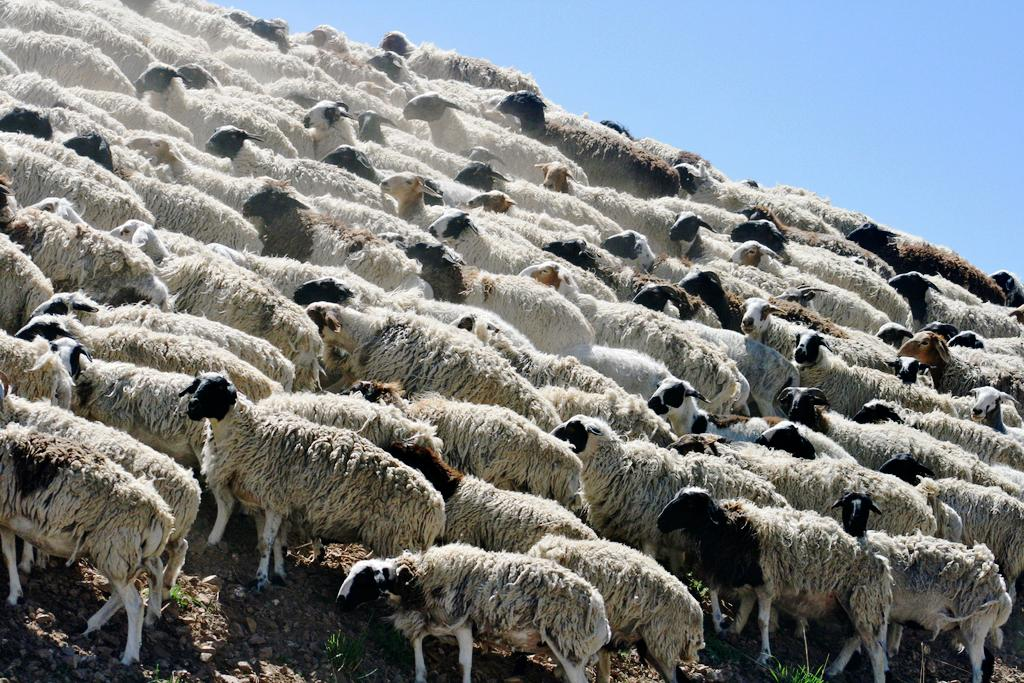Sheep: (184, 362, 468, 593), (0, 379, 182, 633), (658, 476, 887, 677), (0, 416, 172, 668), (332, 534, 603, 683), (836, 484, 1010, 680), (112, 221, 338, 371), (532, 531, 709, 683), (57, 118, 260, 244), (664, 422, 928, 517), (36, 332, 227, 463), (15, 312, 267, 405), (558, 402, 717, 542), (497, 77, 684, 193), (399, 84, 586, 183), (240, 161, 398, 275), (853, 219, 1012, 300), (345, 378, 525, 449), (784, 326, 903, 414), (134, 52, 274, 123), (396, 237, 533, 309), (899, 325, 1024, 398), (649, 374, 764, 440), (422, 211, 519, 272), (204, 122, 300, 181), (662, 201, 746, 268), (275, 268, 404, 310), (958, 381, 1024, 463), (751, 409, 844, 462), (634, 276, 724, 330), (301, 91, 368, 154), (882, 262, 983, 303), (17, 285, 130, 320), (736, 286, 806, 341), (779, 382, 857, 431), (601, 222, 685, 267), (731, 206, 802, 254), (723, 236, 785, 281), (674, 269, 745, 306)
